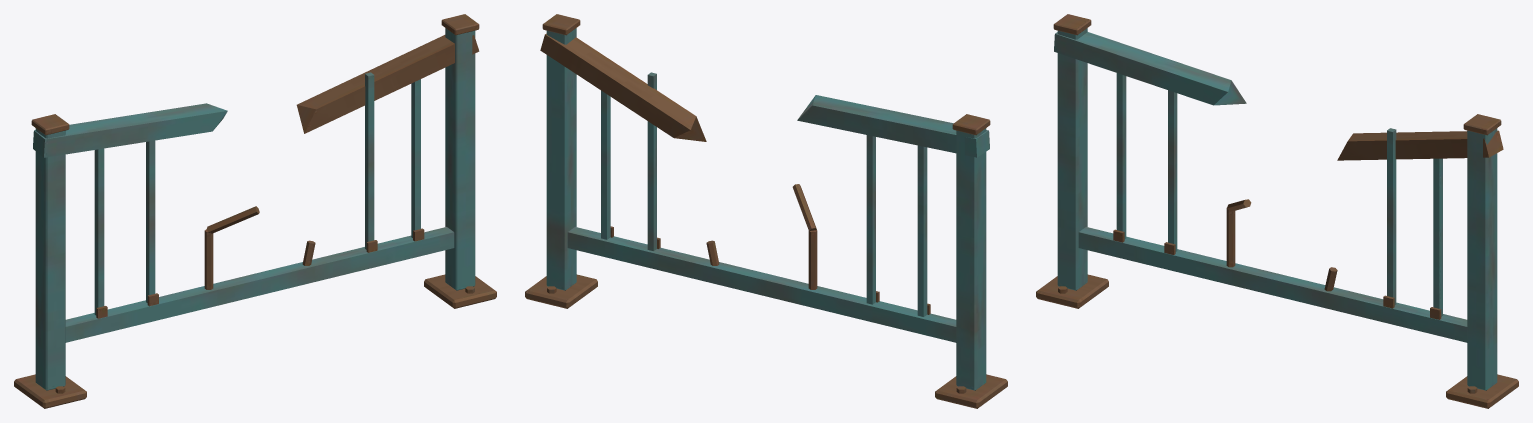
The model's file is BR20_broken_railing_v1.glb.
The picture shows the model from 3 angles, left to right: view 1: azimuth 30°, elevation 25°; view 2: azimuth 150°, elevation 25°; view 3: azimuth 330°, elevation 25°; orthographic projection.
Parts seen in each view (by area): view 1: Anchor plate; view 2: Anchor plate; view 3: Anchor plate.
Boxes of the visible parts, x1=… form: Anchor plate: x1=14, y1=14, x2=496, y2=408; Anchor plate: x1=525, y1=14, x2=1007, y2=408; Anchor plate: x1=1036, y1=14, x2=1518, y2=408.
Bounding box in the file's own units: 2 × 1.14 × 0.2677.
Materials: 2 (2 with a texture image).
